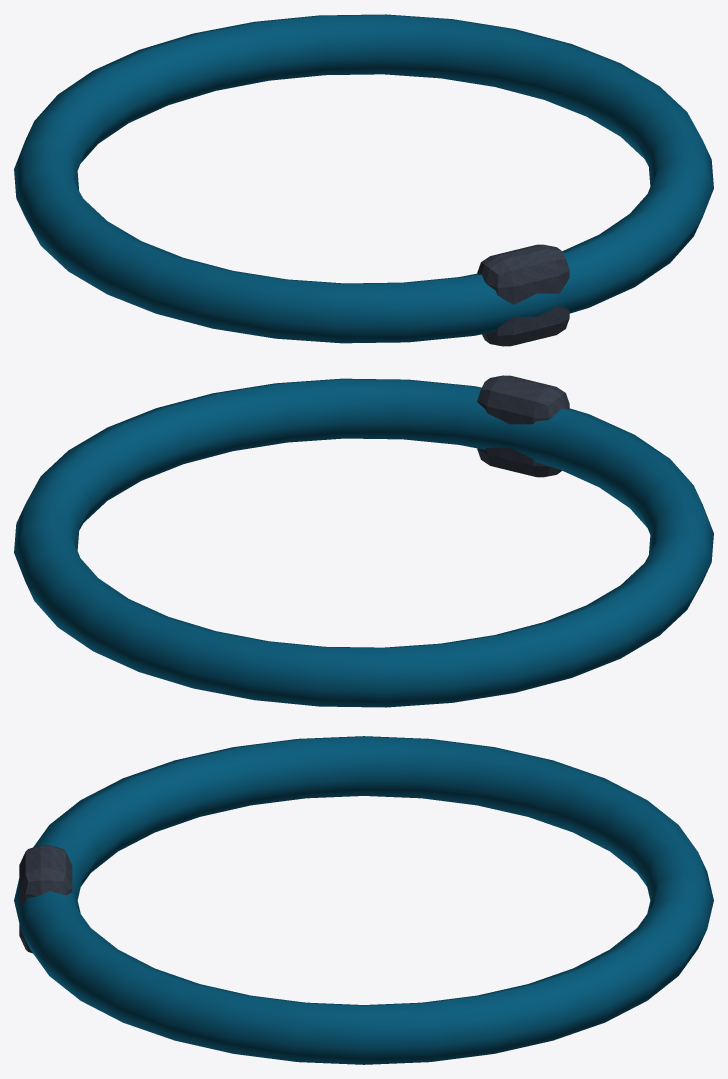
The model's file is SnapSocketRing.obj.
3 renders of one model, top to bottom at view 1: azimuth 30°, elevation 25°; view 2: azimuth 150°, elevation 25°; view 3: azimuth 270°, elevation 25°, orthographic.
Visible parts, largest first — view 1: Ring.002, Marker.002; view 2: Ring.002, Marker.002; view 3: Ring.002, Marker.002.
Part boxes in pixels (x1,y1,x2,y2): Ring.002: (14, 14, 713, 343); Marker.002: (477, 244, 569, 346); Ring.002: (14, 378, 713, 707); Marker.002: (477, 375, 569, 477); Ring.002: (14, 736, 713, 1064); Marker.002: (19, 845, 72, 953).
Size of the model in its own units: 0.132 by 0.018 by 0.132.
